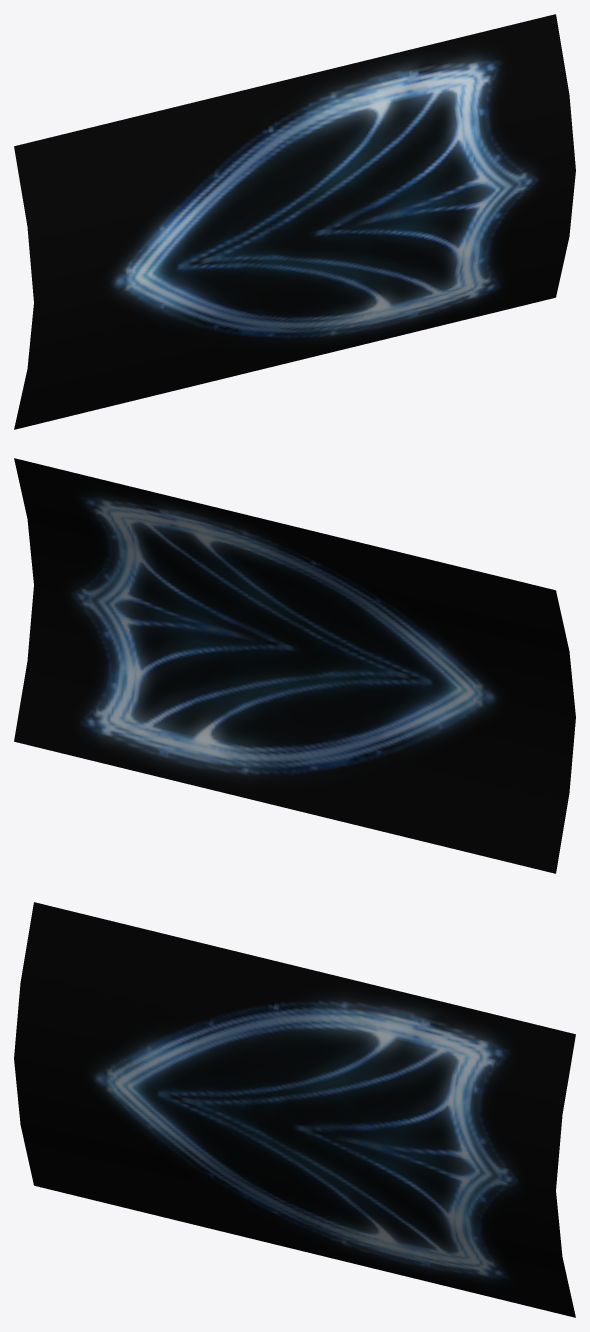
Rendered from pingzhangposui_2.FBX.
The picture shows the model from 3 angles, top to bottom: view 1: azimuth 30°, elevation 25°; view 2: azimuth 150°, elevation 25°; view 3: azimuth 330°, elevation 25°; orthographic projection.
Visible parts, largest first — view 1: 2_1; view 2: 2_1; view 3: 2_1.
Part boxes in pixels (x1=…): 2_1: x1=14, y1=14, x2=575, y2=429; 2_1: x1=14, y1=458, x2=575, y2=873; 2_1: x1=14, y1=902, x2=575, y2=1317.
Size of the model in its own units: 2 by 1 by 0.1279.
